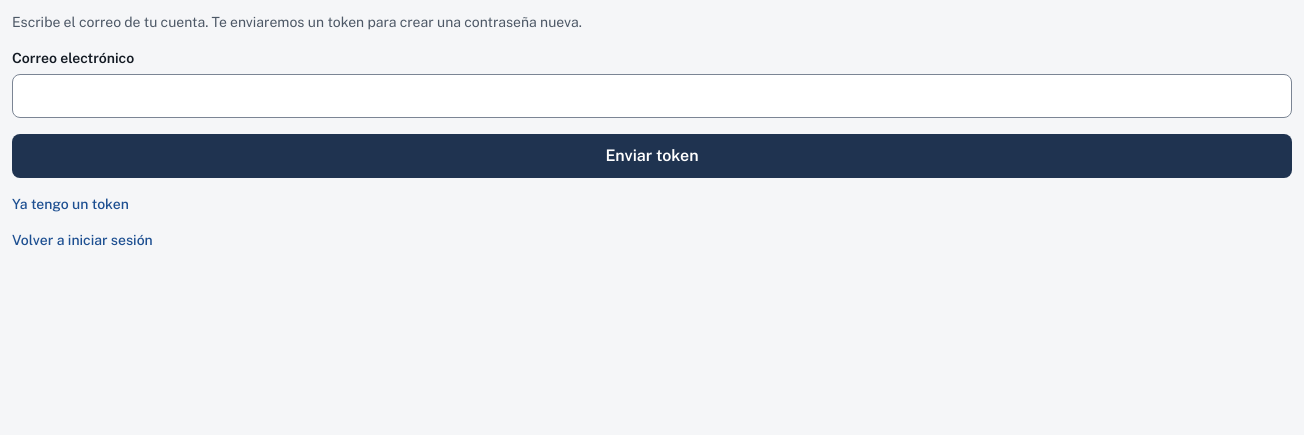
Scenario: RecuperarPassword › restablece con el token limpio y ofrece volver al login
Click the button "Ya tengo un token": [70, 204] box [12,194,129,214]
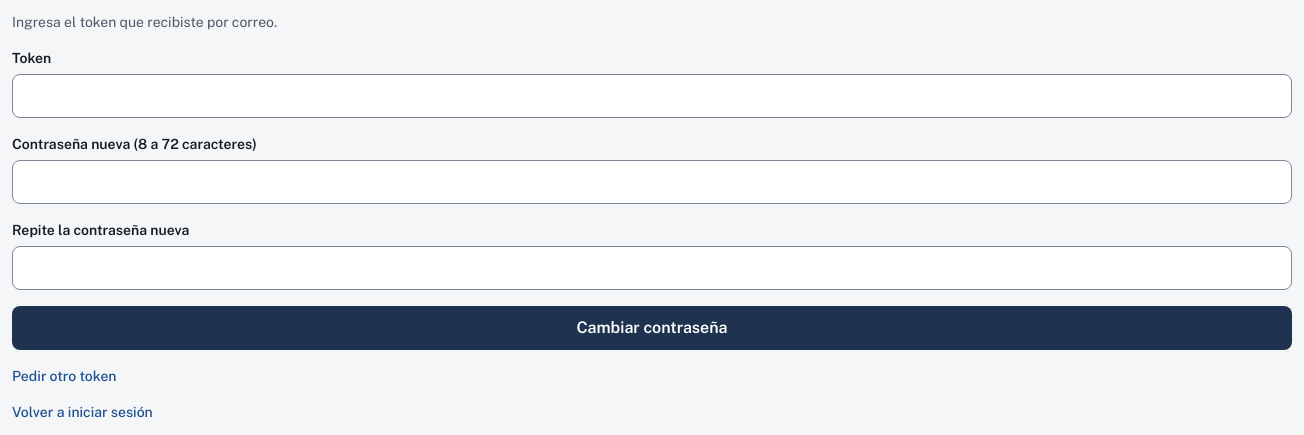
In the field labelled "Token": [652, 96] box [12,74,1292,118], type " abc-123 "
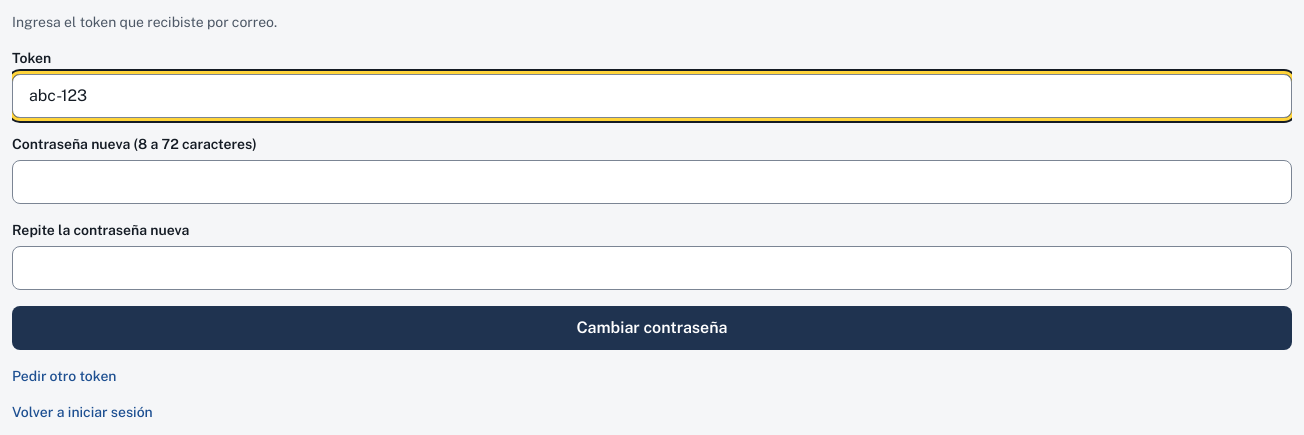
In the password field labelled "Contraseña nueva (8 a 72 caracteres)": [652, 182] box [12,160,1292,204], type "nuevaClave9"
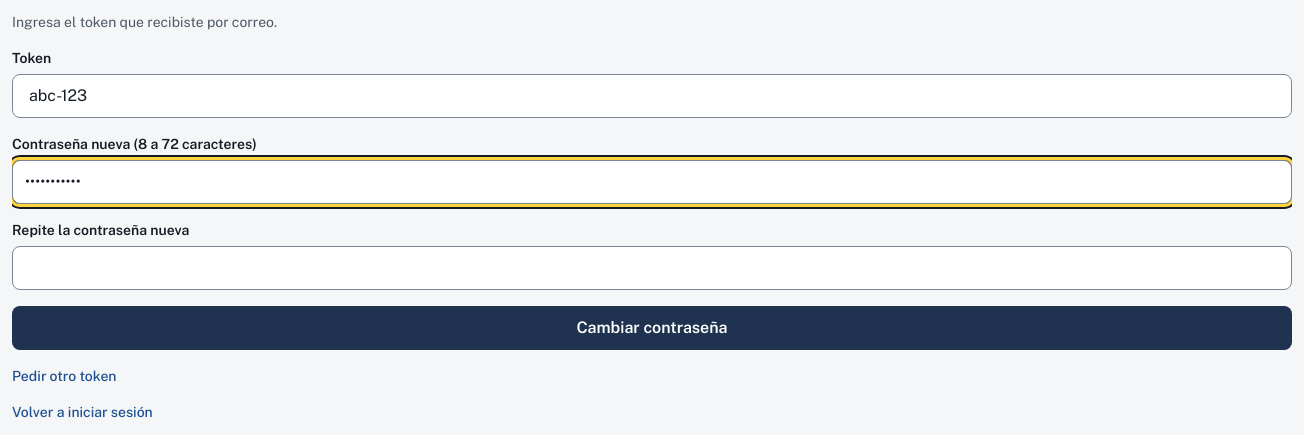
In the password field labelled "Repite la contraseña nueva": [652, 268] box [12,246,1292,290], type "nuevaClave9"
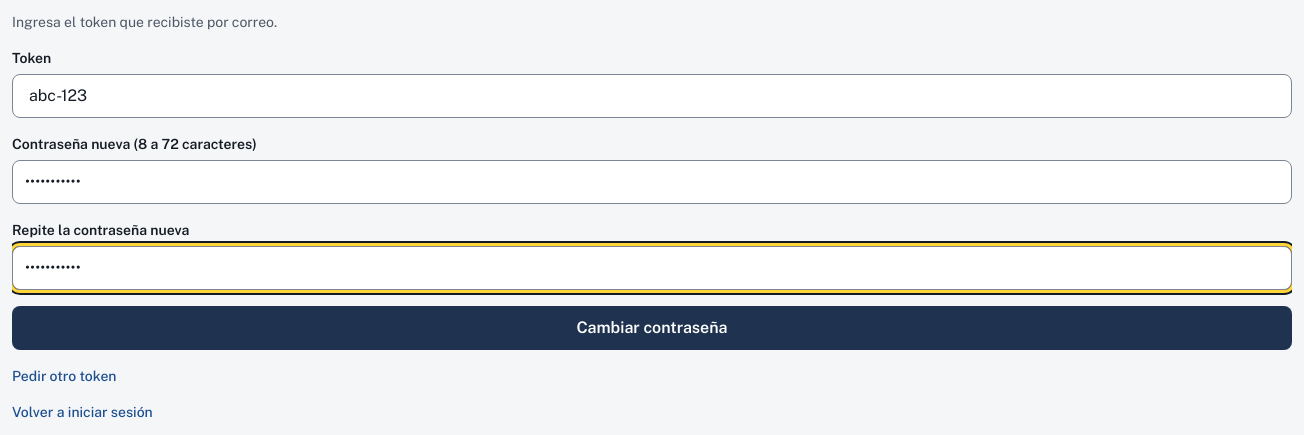
Click the button "Cambiar contraseña": [652, 328] box [12,306,1292,350]
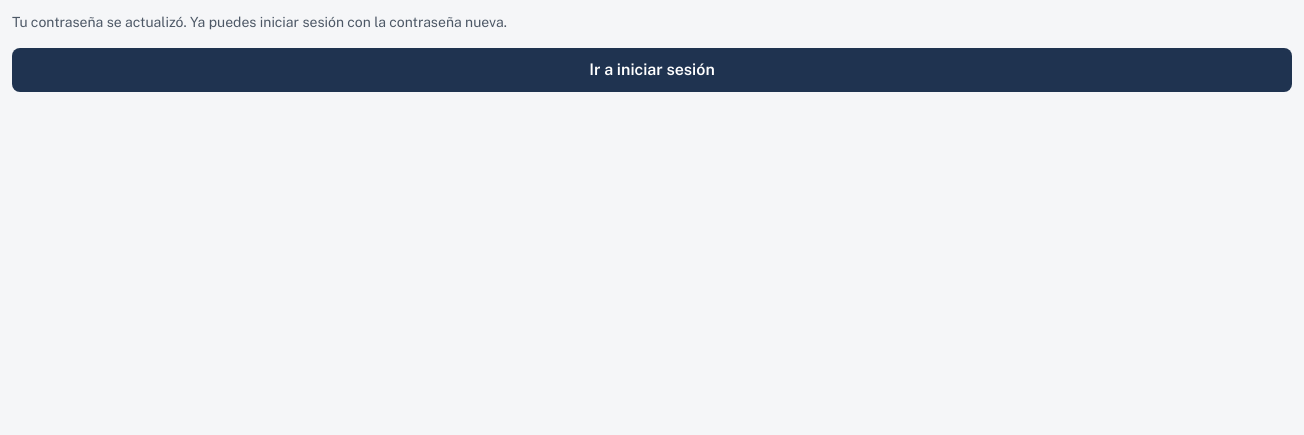
Now the text "Tu contraseña se actualizó. Ya puedes iniciar sesión con la contraseña nueva." is shown, box [12,14,507,30]
